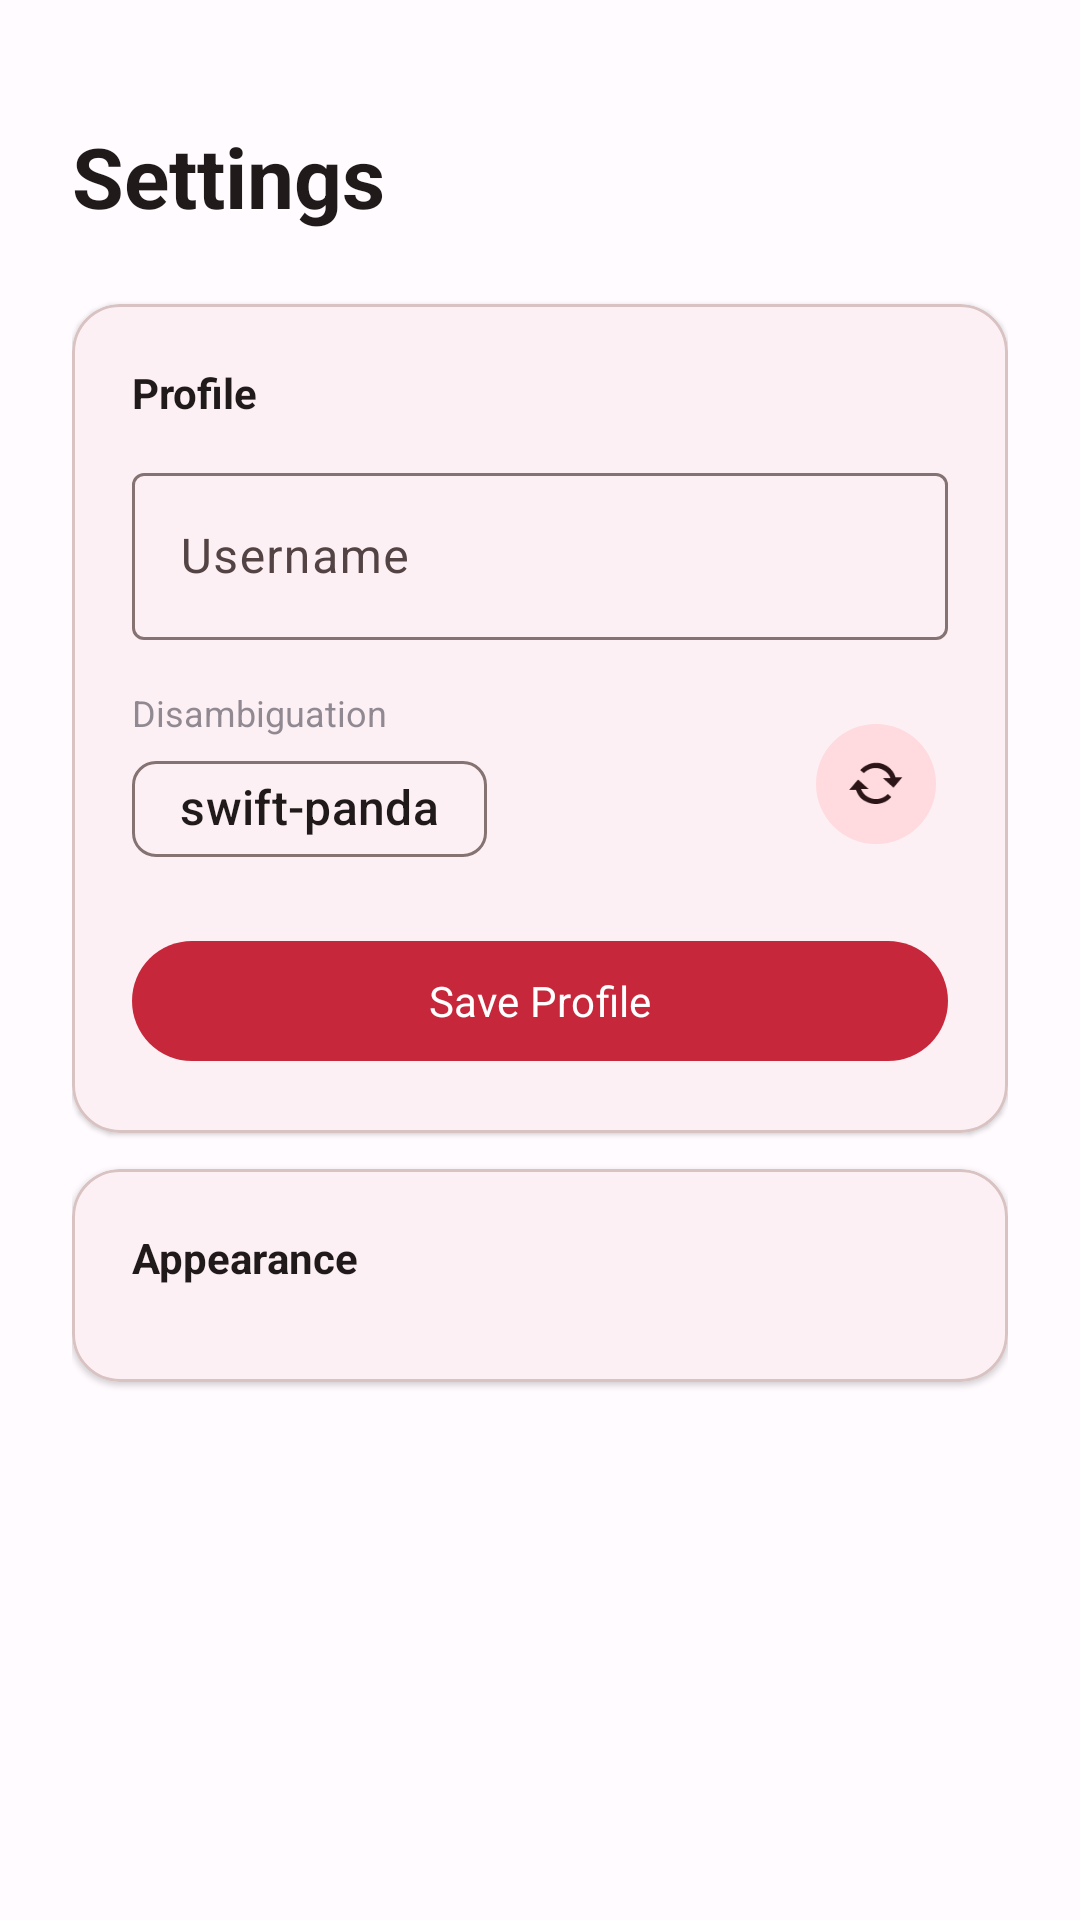

Where icons sit on this 1080px x 1920px app screen, as (x1, y1, x2, y2):
sync: (816, 724, 936, 844)
